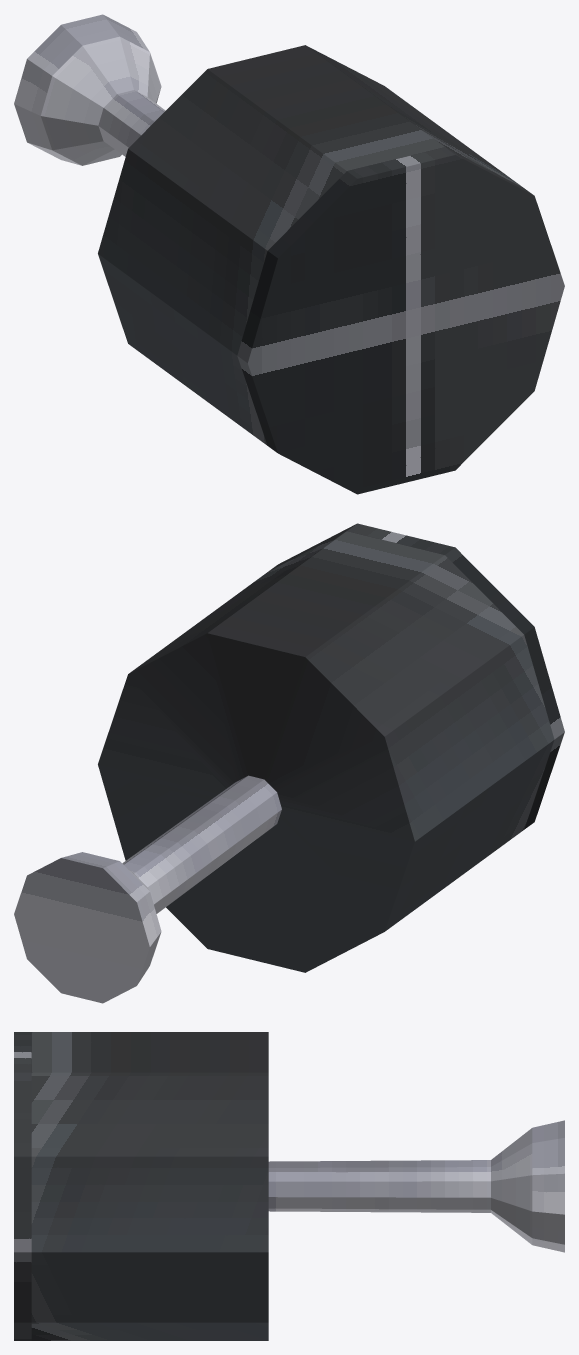
File: pz_lamp_9.obj
The picture shows the model from 3 angles, top to bottom: view 1: azimuth 30°, elevation 25°; view 2: azimuth 150°, elevation 25°; view 3: azimuth 270°, elevation 25°; orthographic projection. The views are drawn at different scales.
Bounding box in the file's own units: 0.21 × 0.1997 × 0.372.
Materials: 1 (1 with a texture image).
